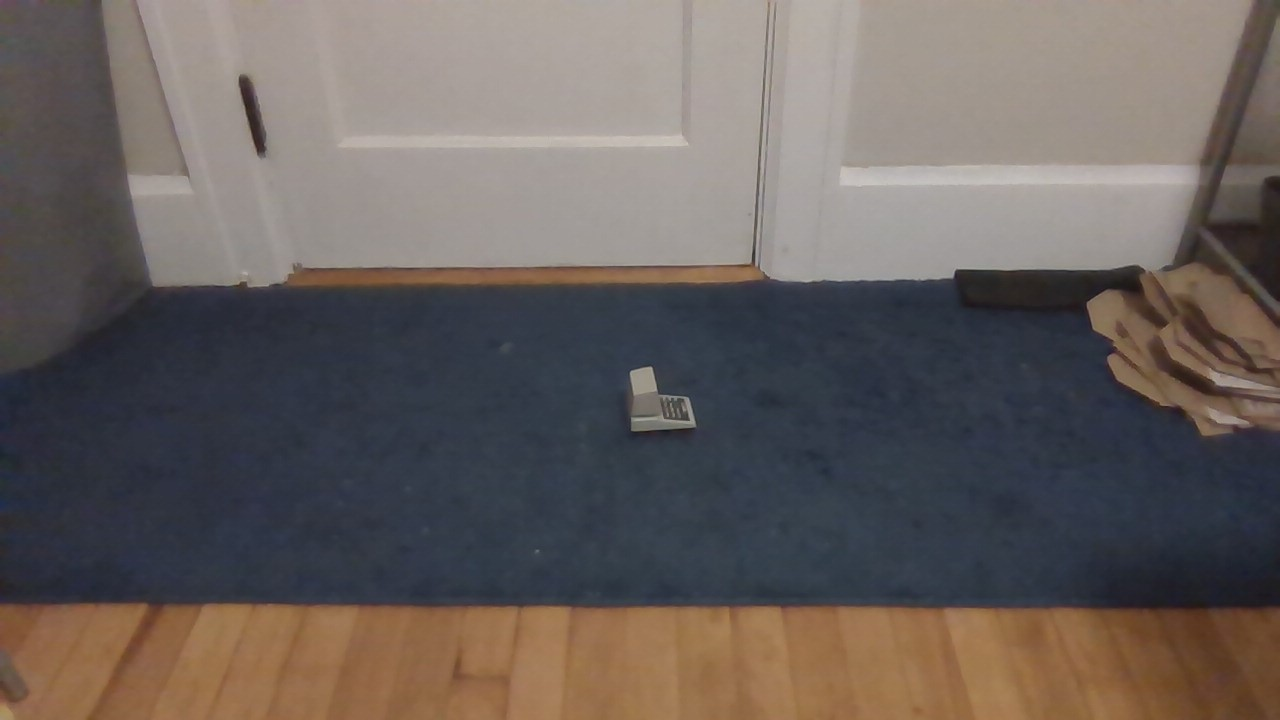Toy: (606, 355, 704, 445)
